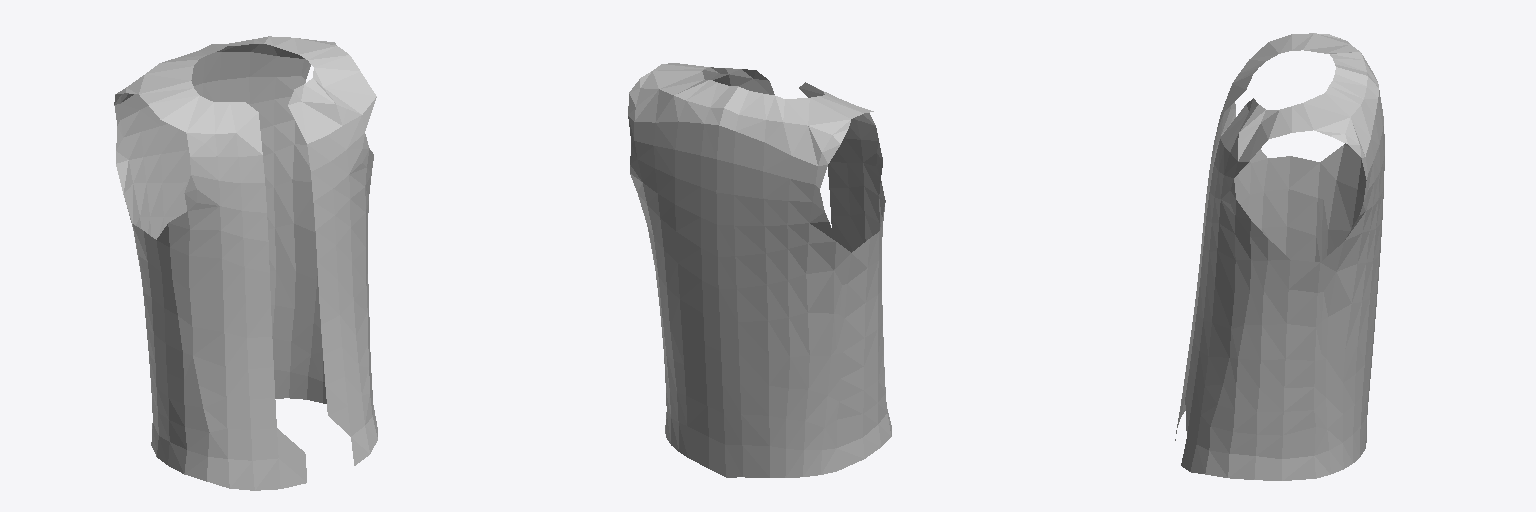
File: vest_0.obj
The picture shows the model from 3 angles: view 1: azimuth 30°, elevation 25°; view 2: azimuth 150°, elevation 25°; view 3: azimuth 270°, elevation 25°; orthographic projection.
Parts seen in each view (by area): view 1: tshirt_0.005; view 2: tshirt_0.005; view 3: tshirt_0.005.
Part boxes in pixels (left/top/right/bottom): tshirt_0.005: left=114, top=36, right=377, bottom=490; tshirt_0.005: left=628, top=63, right=891, bottom=477; tshirt_0.005: left=1175, top=33, right=1384, bottom=480.
Bounding box in the file's own units: 0.67 × 1.13 × 0.568.